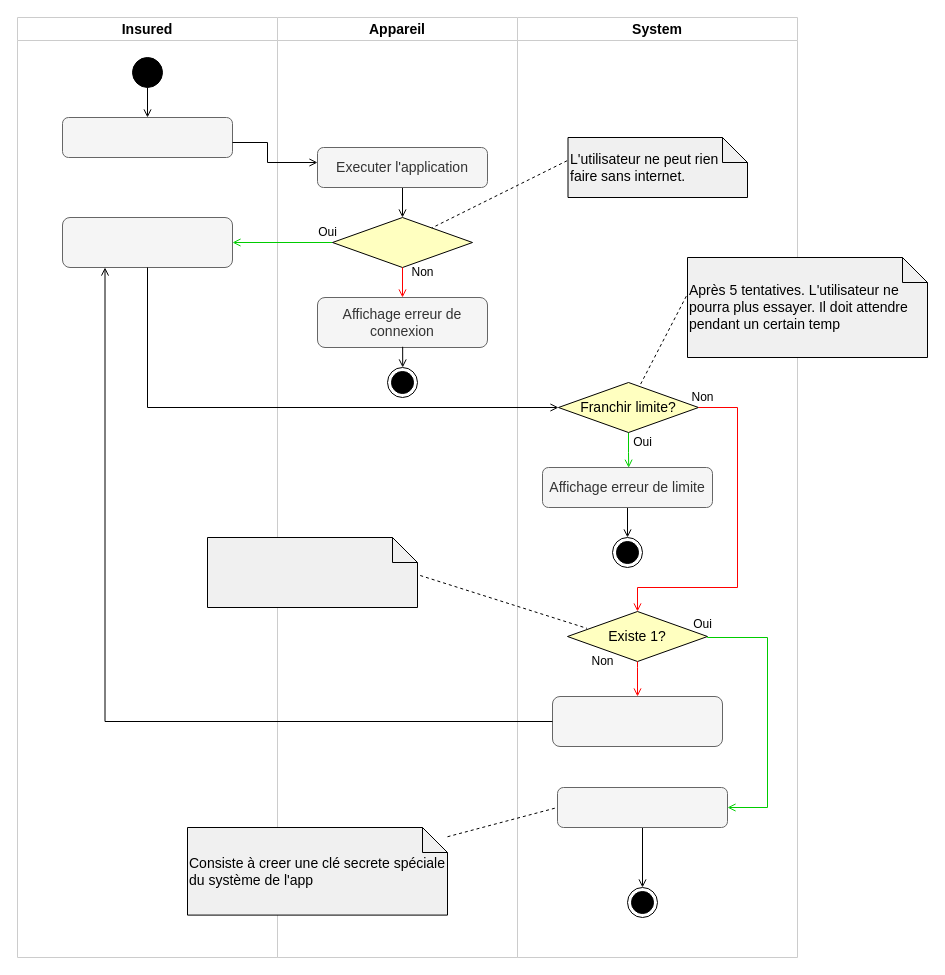
Image size: 945x975. Some labels were removed from this diagram. The shapes that lost their labels are listed below. From the top down, each one's centre as x and y in pixels, then its label:
At pixel 147 137: "Utiliser l'appareil".
At pixel 147 242: "Entrer login + mot de passe".
At pixel 402 242: "Internet?".
At pixel 312 572: "Vérification de l'existence de l'utilisateur au sein du système de l'app.".
At pixel 637 721: "erreur d'authentification".
At pixel 642 807: "Autorisation".
